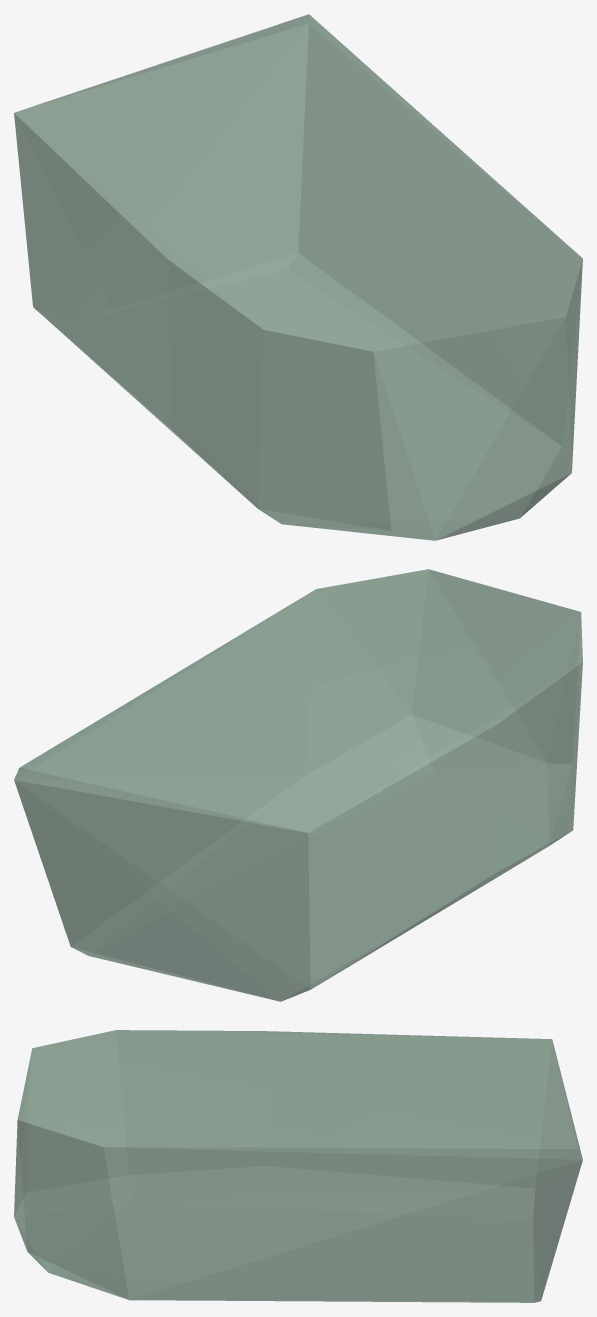
3 views of the same model, one above another, from view 1: azimuth 30°, elevation 25°; view 2: azimuth 150°, elevation 25°; view 3: azimuth 270°, elevation 25° (orthographic). The views are drawn at different scales.
Parts seen in each view (by area): view 1: Shape_IndexedFaceSet.017_Shape_IndexedFaceSet.840; view 2: Shape_IndexedFaceSet.017_Shape_IndexedFaceSet.840; view 3: Shape_IndexedFaceSet.017_Shape_IndexedFaceSet.840.
Boxes of the visible parts, left/top/right/bottom form: Shape_IndexedFaceSet.017_Shape_IndexedFaceSet.840: left=14, top=14, right=582, bottom=540; Shape_IndexedFaceSet.017_Shape_IndexedFaceSet.840: left=14, top=569, right=582, bottom=1001; Shape_IndexedFaceSet.017_Shape_IndexedFaceSet.840: left=14, top=1030, right=582, bottom=1302.
Bounding box in the file's own units: 0.2019 × 0.1242 × 0.3701.
